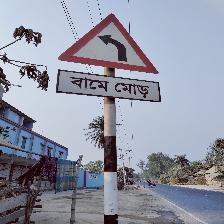Left-Turn: (55, 13, 162, 104)
